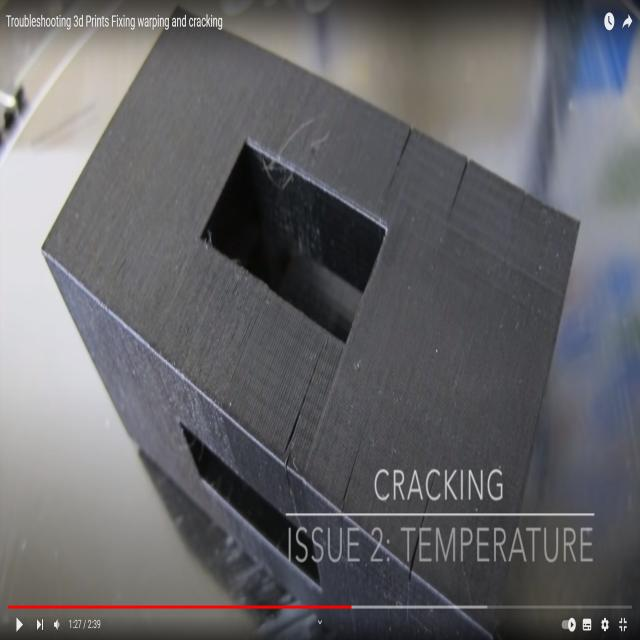Warping: (279, 348, 317, 461), (396, 120, 414, 190), (455, 146, 472, 209), (340, 446, 354, 514)
